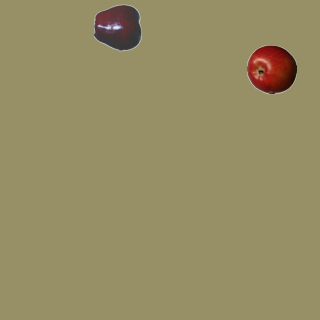Apple Braeburn: (246, 44, 296, 94)
Apple Red Delicious: (93, 2, 143, 52)
